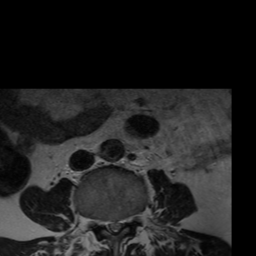CCS_severe_stenosis: (111, 212, 118, 241)
LFS_stenosis: (125, 206, 133, 229)
LLS_stenosis: (118, 210, 125, 238)
RFS_stenosis: (96, 207, 104, 234)
RLS_normal: (104, 211, 111, 238)
